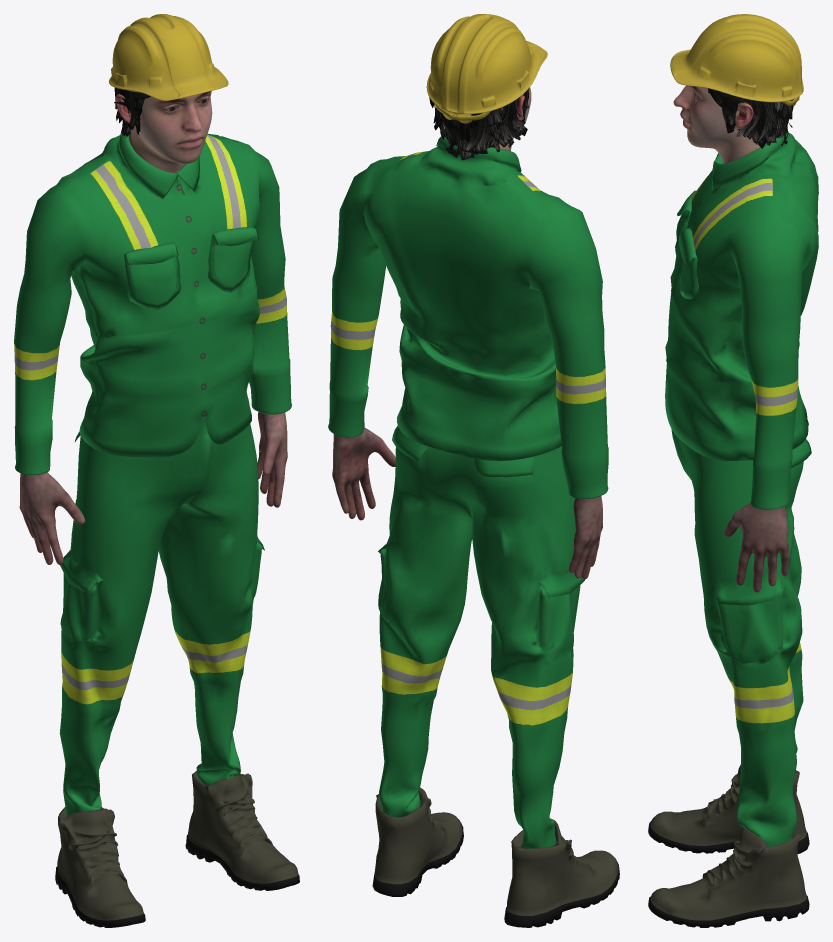
The model's file is avatar.fbx.
3 views of the same model, side by side, from view 1: azimuth 30°, elevation 25°; view 2: azimuth 150°, elevation 25°; view 3: azimuth 270°, elevation 25° (orthographic).
Parts seen in each view (by area): view 1: Ch17_Shirt, Ch17_Pants, Ch17_Boots, Ch17_Body, Ch17_Helmet, Ch17_Hair; view 2: Ch17_Shirt, Ch17_Pants, Ch17_Boots, Ch17_Helmet, Ch17_Body, Ch17_Hair; view 3: Ch17_Shirt, Ch17_Pants, Ch17_Boots, Ch17_Helmet, Ch17_Body, Ch17_Hair.
Part boxes in pixels (x1,y1,x2,y2): Ch17_Shirt: (14, 129, 291, 475); Ch17_Pants: (59, 416, 264, 815); Ch17_Boots: (55, 771, 299, 927); Ch17_Body: (19, 91, 287, 564); Ch17_Helmet: (109, 14, 228, 100); Ch17_Hair: (114, 87, 150, 138); Ch17_Shirt: (328, 136, 608, 499); Ch17_Pants: (378, 426, 585, 871); Ch17_Boots: (372, 787, 619, 927); Ch17_Helmet: (426, 14, 547, 123); Ch17_Body: (332, 87, 602, 579); Ch17_Hair: (429, 88, 529, 160); Ch17_Shirt: (665, 132, 818, 509); Ch17_Pants: (671, 420, 811, 847); Ch17_Boots: (648, 764, 809, 927); Ch17_Helmet: (670, 14, 803, 105); Ch17_Body: (673, 85, 788, 592); Ch17_Hair: (708, 88, 793, 148).
Bounding box in the file's own units: 70.9 × 215 × 38.59.
6 materials, 6 textured.
